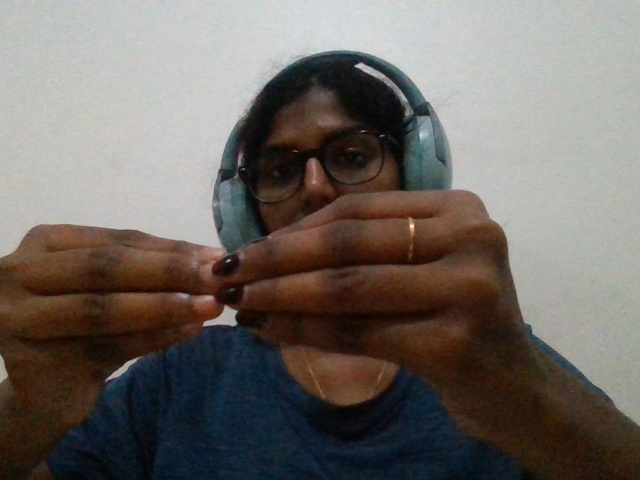More: (3, 180, 575, 480)
